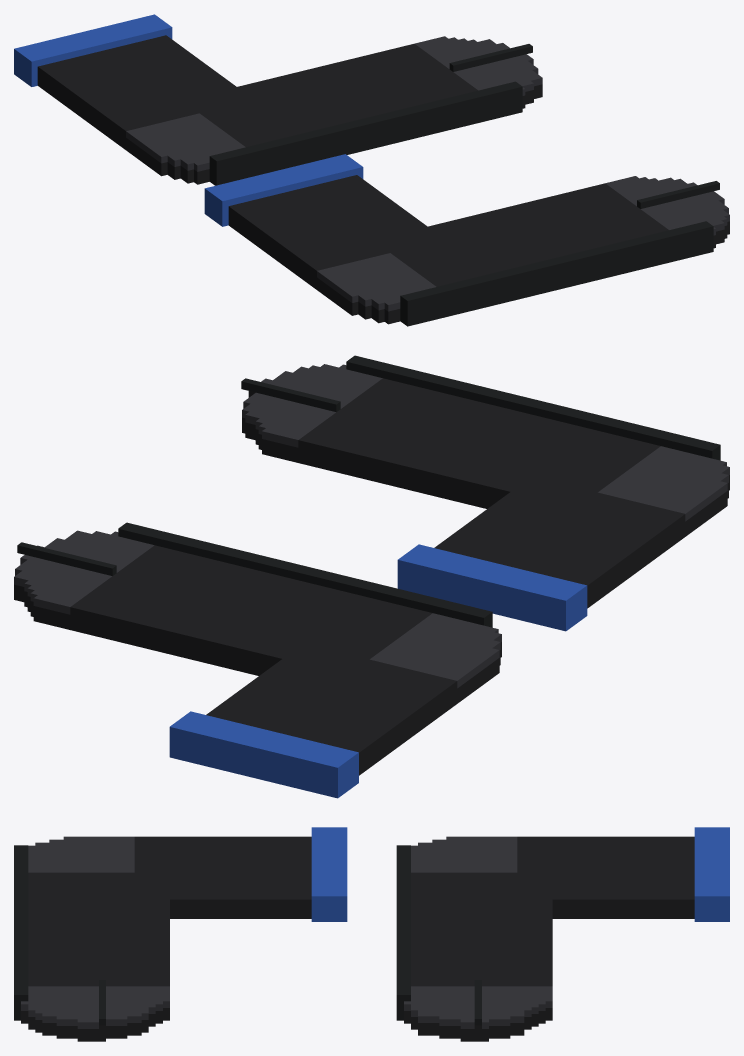
The model's file is wetsuit_booties.glb.
3 renders of one model, top to bottom at view 1: azimuth 30°, elevation 25°; view 2: azimuth 150°, elevation 25°; view 3: azimuth 270°, elevation 25°, orthographic. The views are drawn at different scales.
Visible parts, largest first — view 1: wetsuit_booties:compound; view 2: wetsuit_booties:compound; view 3: wetsuit_booties:compound.
Boxes of the visible parts, x1,y1,x2,y2 form: wetsuit_booties:compound: [14, 14, 729, 326]; wetsuit_booties:compound: [14, 355, 729, 798]; wetsuit_booties:compound: [14, 827, 729, 1041].
Size of the model in its own units: 0.256 by 0.016 by 0.404.
